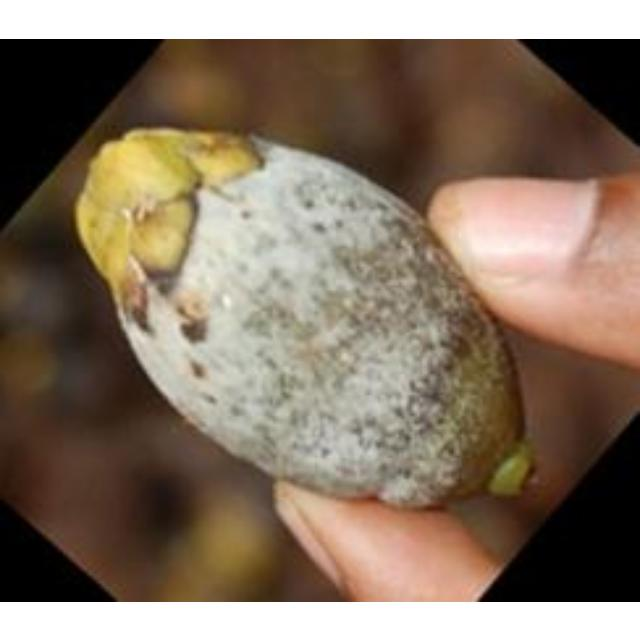damaged: (73, 130, 535, 510)
